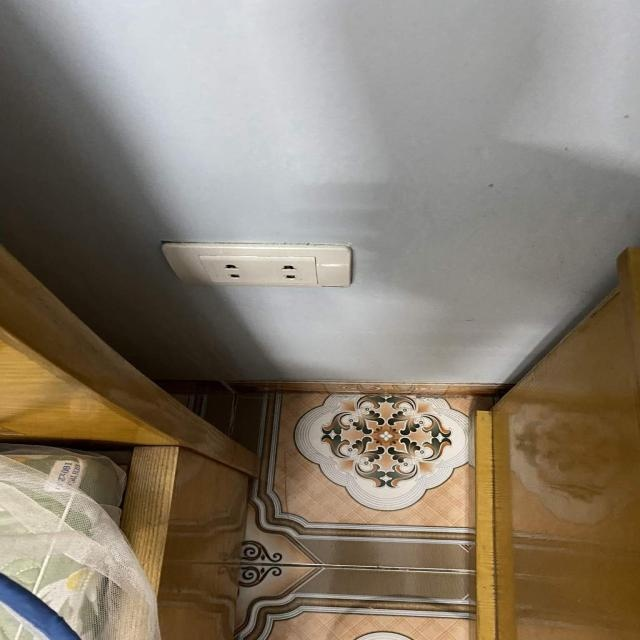outlet: (160, 241, 352, 288)
